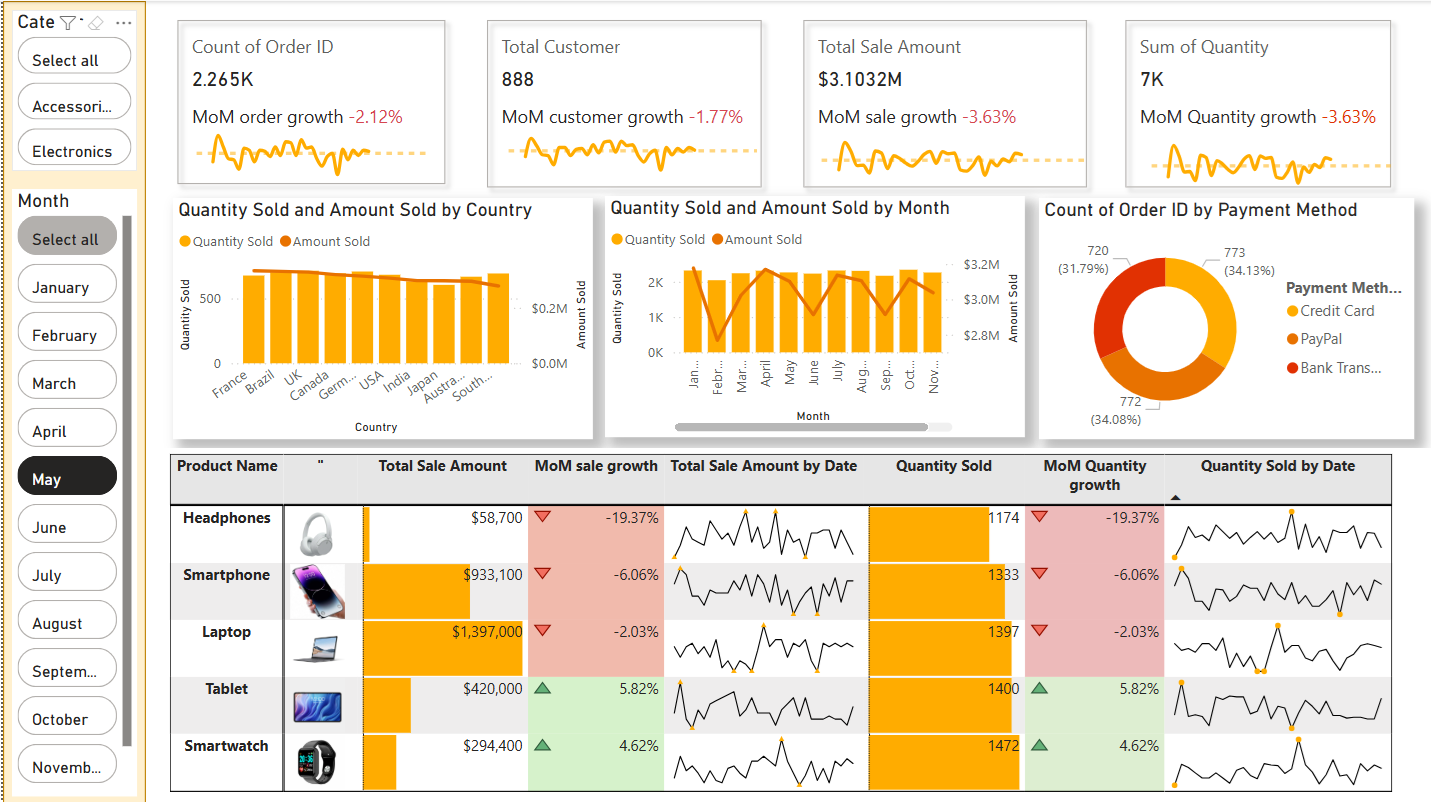

The dashboard page shown, as its layout file describes it:
{"tool":"powerbi","page":{"name":"Overview","canvas":[1280,720],"ordinal":0},"visuals":[{"type":"shape","box":[0,0,128,720],"z":1000},{"type":"cardVisual","title":"Total Sale Value","fields":{"Data":["Sum(ecommerce_data.Quantity)"]},"box":[968,0,312,184],"z":2000},{"type":"lineStackedColumnComboChart","fields":{"Category":["dim_country.Country"],"Y":["Sum(ecommerce_data.Quantity)"],"Y2":["Sum(ecommerce_data.Total Sale Amount)"]},"box":[152,176,376,216],"z":3000},{"type":"cardVisual","title":"Total Order","fields":{"Data":["CountNonNull(ecommerce_data.Order ID)"]},"box":[144,0,264,176],"z":4000},{"type":"advancedSlicerVisual","fields":{"Values":["Dim_date.Date.Variation.Date Hierarchy.Month"]},"box":[8,168,112,544],"z":5000},{"type":"advancedSlicerVisual","fields":{"Values":["dim_product.Category"]},"box":[8,8,112,144],"z":6000},{"type":"cardVisual","title":"Total Sale Value","fields":{"Data":["Sum(ecommerce_data.Total Sale Amount)"]},"box":[680,0,328,184],"z":7000},{"type":"cardVisual","title":"Total customer ","fields":{"Data":["Count(ecommerce_data.Customer ID)"]},"box":[416,0,280,184],"z":8000},{"type":"lineStackedColumnComboChart","fields":{"Category":["Dim_date.Date.Variation.Date Hierarchy.Month"],"Y2":["Sum(ecommerce_data.Total Sale Amount)"],"Y":["CountNonNull(ecommerce_data.Quantity)"]},"box":[539.1,174.6,376,216],"z":9000},{"type":"lineChart","fields":{"Category":["Dim_date.Date.Variation.Date Hierarchy.Day"],"Y":["Measure.order growth"]},"box":[168,104,216,64],"z":10000},{"type":"lineChart","fields":{"Category":["Dim_date.Date.Variation.Date Hierarchy.Day"],"Y":["Measure.Quantity growth"]},"box":[1024,96,224,80],"z":11000},{"type":"lineChart","fields":{"Category":["Dim_date.Date.Variation.Date Hierarchy.Day"],"Y":["Measure.customer  growth"]},"box":[448,104,232,64],"z":12000},{"type":"lineChart","fields":{"Category":["Dim_date.Date.Variation.Date Hierarchy.Day"],"Y":["Measure.sale growth"]},"box":[728,96,248,72],"z":13000},{"type":"donutChart","fields":{"Category":["dim_payment.Payment Method"],"Y":["CountNonNull(ecommerce_data.Order ID)"]},"box":[928,176,336,216],"z":14000},{"type":"pivotTable","fields":{"Rows":["dim_product.Product Name"],"Values":["Min(Product Images.Img)","Sum(ecommerce_data.Total Sale Amount)","Measure.MoM sale growth","SparklineData(CountNonNull(ecommerce_data.Total Sale Amount)_[Dim_date.Date])","Sum(ecommerce_data.Quantity)","Measure.MoM Quantity growth","SparklineData(Sum(ecommerce_data.Quantity)_[Dim_date.Date])"]},"box":[152,400,1128,320],"z":15000}]}

Visuals, with their boxes in screenshot pixels (x1, y1, x2, y2), scaled from the page's 1280x720 canvas onto the 1431x802 screenshot:
shape: (left=0, top=0, right=143, bottom=801)
"Total Sale Value" cardVisual: (left=1082, top=0, right=1430, bottom=205)
lineStackedColumnComboChart - dim_country.Country x Sum(ecommerce_data.Quantity): (left=170, top=196, right=590, bottom=437)
"Total Order" cardVisual: (left=161, top=0, right=456, bottom=196)
advancedSlicerVisual - Dim_date.Date.Variation.Date Hierarchy.Month: (left=9, top=187, right=134, bottom=793)
advancedSlicerVisual - dim_product.Category: (left=9, top=9, right=134, bottom=169)
"Total Sale Value" cardVisual: (left=760, top=0, right=1127, bottom=205)
"Total customer " cardVisual: (left=465, top=0, right=778, bottom=205)
lineStackedColumnComboChart - Dim_date.Date.Variation.Date Hierarchy.Month x Sum(ecommerce_data.Total Sale Amount): (left=603, top=194, right=1023, bottom=435)
lineChart - Dim_date.Date.Variation.Date Hierarchy.Day x Measure.order growth: (left=188, top=116, right=429, bottom=187)
lineChart - Dim_date.Date.Variation.Date Hierarchy.Day x Measure.Quantity growth: (left=1145, top=107, right=1395, bottom=196)
lineChart - Dim_date.Date.Variation.Date Hierarchy.Day x Measure.customer  growth: (left=501, top=116, right=760, bottom=187)
lineChart - Dim_date.Date.Variation.Date Hierarchy.Day x Measure.sale growth: (left=814, top=107, right=1091, bottom=187)
donutChart - dim_payment.Payment Method x CountNonNull(ecommerce_data.Order ID): (left=1037, top=196, right=1413, bottom=437)
pivotTable - dim_product.Product Name x Min(Product Images.Img): (left=170, top=446, right=1430, bottom=801)
